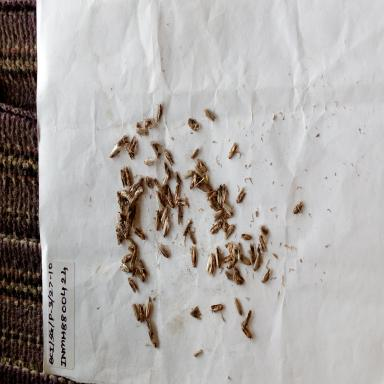pbw: (228, 139, 242, 163), (116, 215, 130, 238), (291, 198, 305, 218), (162, 212, 172, 240), (123, 140, 136, 161), (148, 140, 162, 159), (162, 146, 175, 166), (107, 142, 120, 162), (136, 257, 149, 277), (208, 300, 224, 316), (189, 303, 203, 321), (253, 248, 263, 273), (127, 133, 138, 155), (158, 241, 170, 261), (154, 100, 164, 124), (187, 116, 200, 134), (225, 239, 237, 258), (240, 254, 254, 270), (192, 162, 206, 178), (241, 306, 251, 328), (259, 222, 270, 242), (124, 205, 135, 225), (144, 315, 154, 337), (195, 155, 207, 173), (127, 277, 139, 295), (232, 294, 242, 315), (189, 244, 197, 270), (204, 106, 216, 123), (195, 181, 212, 193), (148, 330, 158, 350), (130, 302, 140, 322), (127, 193, 138, 211), (162, 160, 171, 182), (232, 274, 247, 287), (124, 164, 132, 188), (134, 227, 146, 243), (205, 188, 216, 205), (216, 245, 224, 268), (213, 242, 220, 268), (153, 172, 162, 192), (262, 268, 272, 286), (240, 325, 252, 340), (186, 227, 196, 245), (115, 226, 124, 246), (130, 246, 138, 268), (225, 222, 236, 238), (220, 218, 229, 237), (144, 173, 154, 190), (212, 208, 224, 222), (118, 186, 130, 200), (144, 298, 152, 319), (210, 221, 222, 235), (154, 210, 162, 231), (192, 346, 203, 361), (223, 269, 232, 287), (182, 217, 191, 235), (176, 205, 183, 228), (206, 252, 213, 275), (132, 174, 142, 190), (134, 267, 144, 283), (172, 169, 182, 185), (248, 240, 254, 266), (190, 146, 201, 160), (125, 236, 136, 250), (183, 168, 194, 182), (161, 206, 169, 225), (222, 201, 232, 216), (138, 298, 144, 322), (118, 131, 127, 147), (216, 180, 222, 204), (161, 172, 170, 188), (258, 233, 266, 251), (143, 155, 156, 166), (210, 257, 217, 277), (122, 251, 132, 265), (221, 181, 227, 204), (136, 126, 148, 137), (119, 168, 125, 190), (175, 196, 187, 207), (225, 256, 236, 268), (134, 185, 144, 198), (234, 267, 243, 281), (145, 115, 153, 130), (240, 232, 252, 242), (173, 184, 179, 203), (166, 186, 173, 202), (155, 190, 162, 206), (115, 191, 122, 207), (120, 263, 130, 274), (117, 210, 127, 221), (222, 254, 232, 264), (237, 240, 242, 260), (166, 200, 176, 210), (190, 174, 196, 190), (160, 193, 166, 209), (135, 119, 143, 129)
